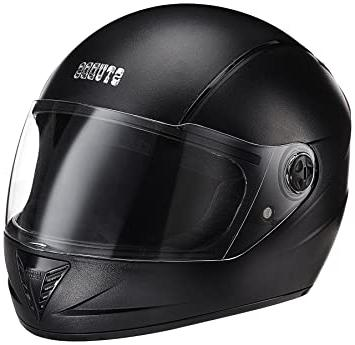Helmet: (3, 3, 354, 343)
